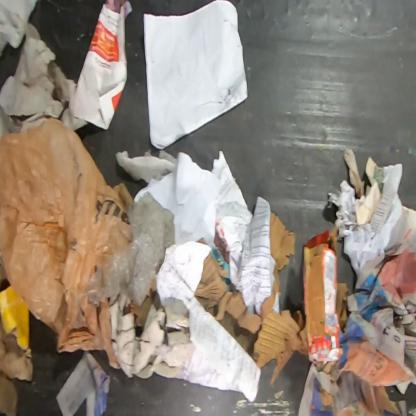cardboard: (250, 261, 310, 386), (194, 251, 262, 356), (302, 224, 343, 364), (270, 210, 296, 271), (338, 283, 351, 330), (195, 237, 209, 246)
soft_plastic: (0, 118, 135, 369), (84, 190, 177, 307), (0, 0, 38, 60), (122, 302, 139, 328)
